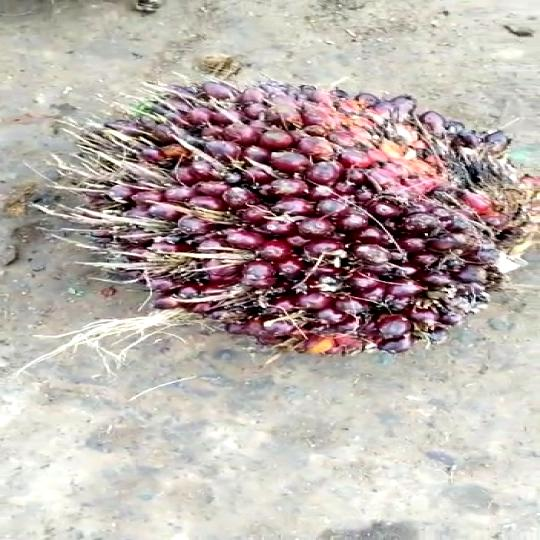kurang masak: (27, 75, 540, 371)
